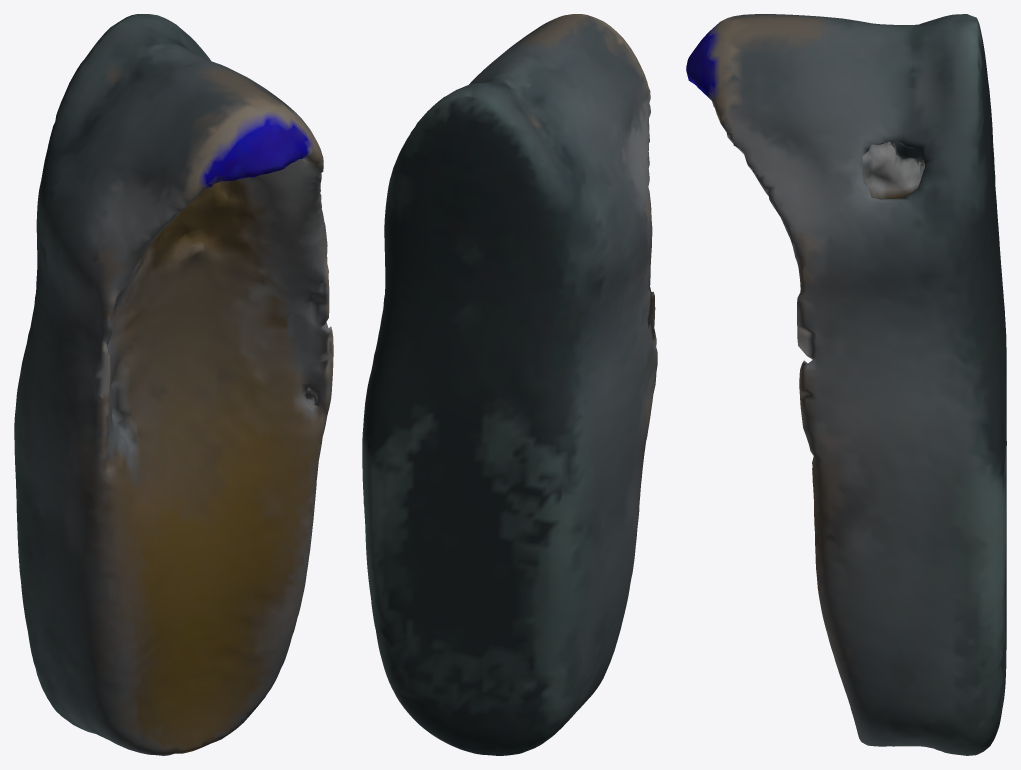
Rendered from leather.glb.
The picture shows the model from 3 angles, left to right: view 1: azimuth 30°, elevation 25°; view 2: azimuth 150°, elevation 25°; view 3: azimuth 270°, elevation 25°; orthographic projection. The views are drawn at different scales.
Bounding box in the file's own units: 0.3637 × 0.9995 × 0.4011.
